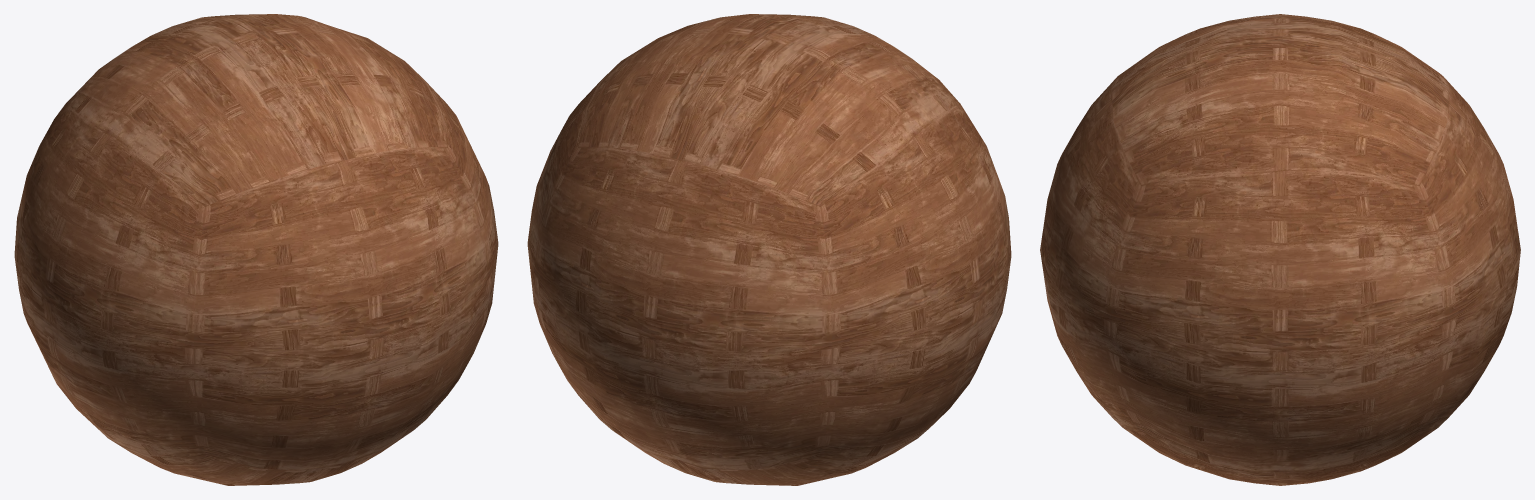
File: wickerball.glb
The picture shows the model from 3 angles, left to right: view 1: azimuth 30°, elevation 25°; view 2: azimuth 150°, elevation 25°; view 3: azimuth 270°, elevation 25°; orthographic projection.
Parts seen in each view (by area): view 1: Sphere; view 2: Sphere; view 3: Sphere.
Part boxes in pixels (bbox=[...]): Sphere: bbox=[14, 14, 498, 485]; Sphere: bbox=[527, 14, 1011, 485]; Sphere: bbox=[1040, 14, 1520, 485].
Size of the model in its own units: 0.06 by 0.0588 by 0.06.
1 material, 1 textured.
